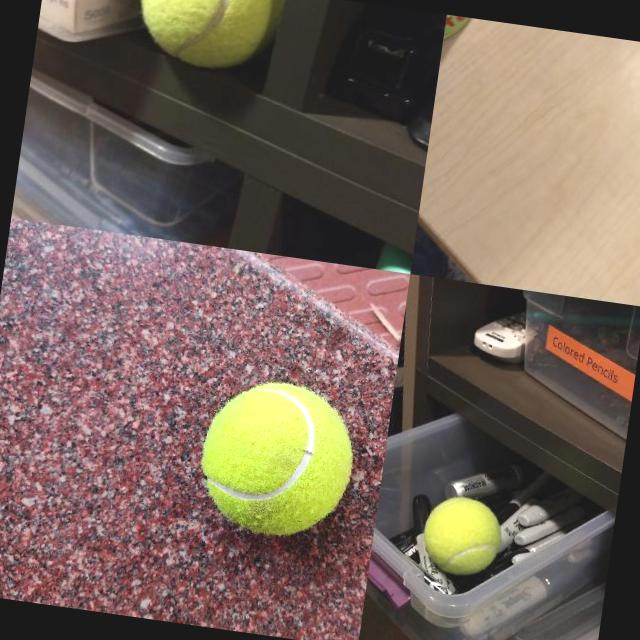Tennis Ball: (194, 374, 361, 543), (128, 0, 282, 77), (418, 491, 506, 579)
